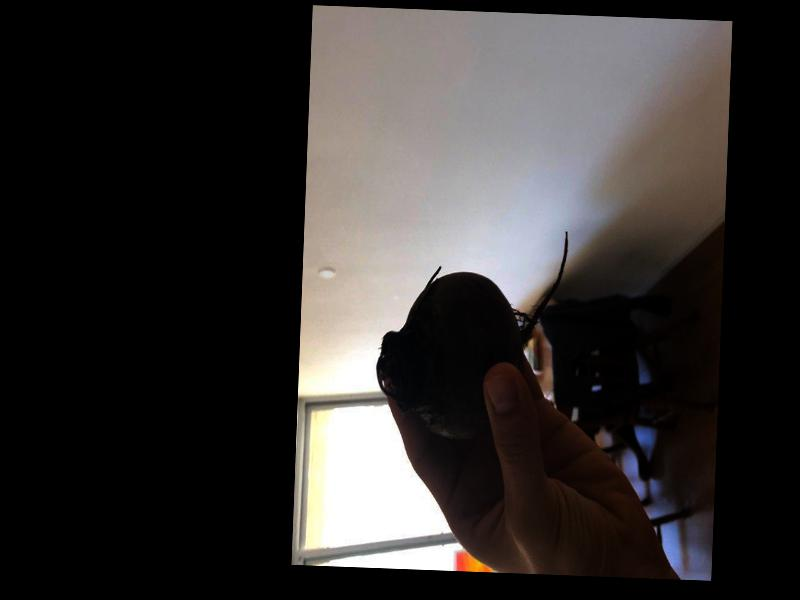Beet: (373, 222, 567, 442)
